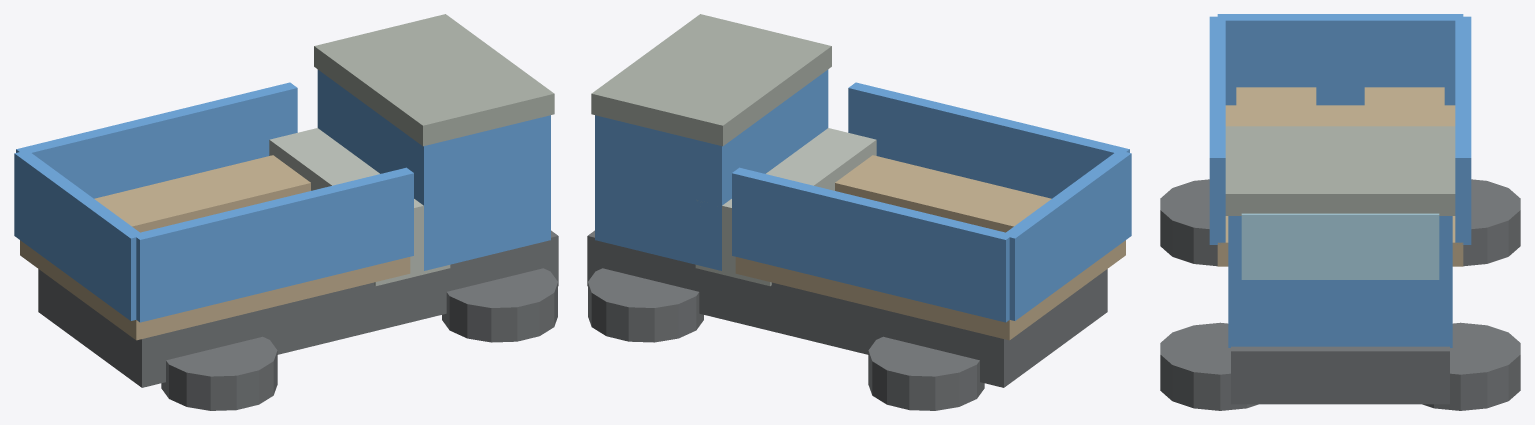
The model's file is truck_blue.glb.
The picture shows the model from 3 angles, left to right: view 1: azimuth 30°, elevation 25°; view 2: azimuth 150°, elevation 25°; view 3: azimuth 270°, elevation 25°; orthographic projection. The views are drawn at different scales.
Visible parts, largest first — view 1: geometry_10, geometry_5, geometry_0, geometry_7, geometry_11, geometry_12, geometry_14, geometry_9, geometry_3, geometry_1, geometry_8; view 2: geometry_11, geometry_5, geometry_0, geometry_7, geometry_10, geometry_12, geometry_13, geometry_9, geometry_4, geometry_2, geometry_8; view 3: geometry_7, geometry_12, geometry_5, geometry_6, geometry_0, geometry_1, geometry_2, geometry_3, geometry_4, geometry_11, geometry_10, geometry_13 (+2 smaller).
Boxes of the visible parts, box(x1,y1,x2,y2) form: geometry_10: box(133, 167, 413, 322); geometry_5: box(317, 69, 550, 270); geometry_0: box(38, 230, 558, 387); geometry_7: box(314, 14, 554, 146); geometry_11: box(16, 82, 297, 198); geometry_12: box(14, 150, 143, 320); geometry_14: box(94, 155, 310, 232); geometry_9: box(20, 240, 410, 340); geometry_3: box(161, 336, 277, 410); geometry_1: box(442, 268, 557, 342); geometry_8: box(269, 128, 450, 286); geometry_11: box(732, 167, 1012, 322); geometry_5: box(595, 69, 828, 270); geometry_0: box(587, 230, 1107, 387); geometry_7: box(591, 14, 831, 146); geometry_10: box(848, 82, 1129, 198); geometry_12: box(1002, 150, 1131, 320); geometry_13: box(835, 155, 1051, 232); geometry_9: box(735, 240, 1125, 340); geometry_4: box(868, 336, 984, 410); geometry_2: box(588, 268, 703, 342); geometry_8: box(695, 128, 876, 286); geometry_7: box(1225, 126, 1455, 215); geometry_12: box(1217, 14, 1463, 105); geometry_5: box(1228, 216, 1452, 347); geometry_6: box(1241, 213, 1439, 279); geometry_0: box(1231, 346, 1449, 404); geometry_1: box(1160, 322, 1258, 410); geometry_2: box(1422, 322, 1520, 410); geometry_3: box(1160, 179, 1217, 266); geometry_4: box(1463, 179, 1520, 266); geometry_11: box(1455, 16, 1471, 244); geometry_10: box(1209, 16, 1225, 244); geometry_13: box(1236, 87, 1316, 126).
Size of the model in its own units: 1.98 by 0.91 by 1.35.
